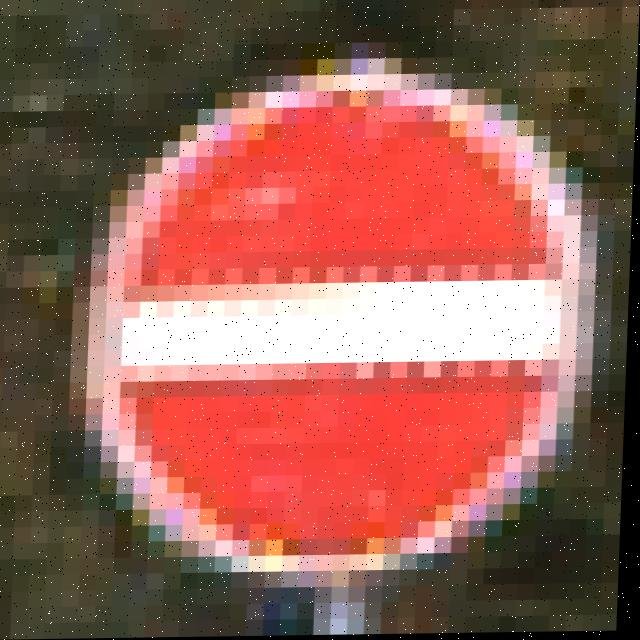road_rough: (95, 59, 590, 567)
